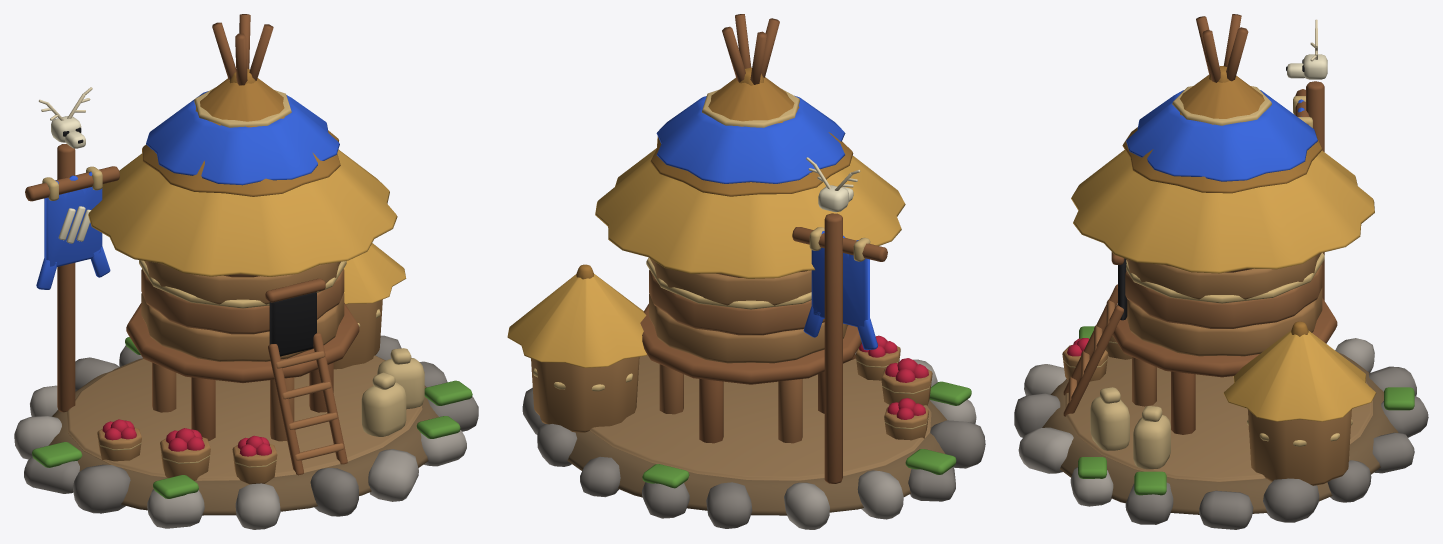
The model's file is Granary.glb.
The picture shows the model from 3 angles, left to right: view 1: azimuth 30°, elevation 25°; view 2: azimuth 150°, elevation 25°; view 3: azimuth 270°, elevation 25°; orthographic projection.
Visible parts, largest first — view 1: Granary; view 2: Granary; view 3: Granary.
Part boxes in pixels (left/top/right/bottom): Granary: left=14, top=14, right=478, bottom=529; Granary: left=507, top=14, right=985, bottom=529; Granary: left=1014, top=14, right=1428, bottom=529.
Size of the model in its own units: 3.02 by 2.96 by 2.66.
